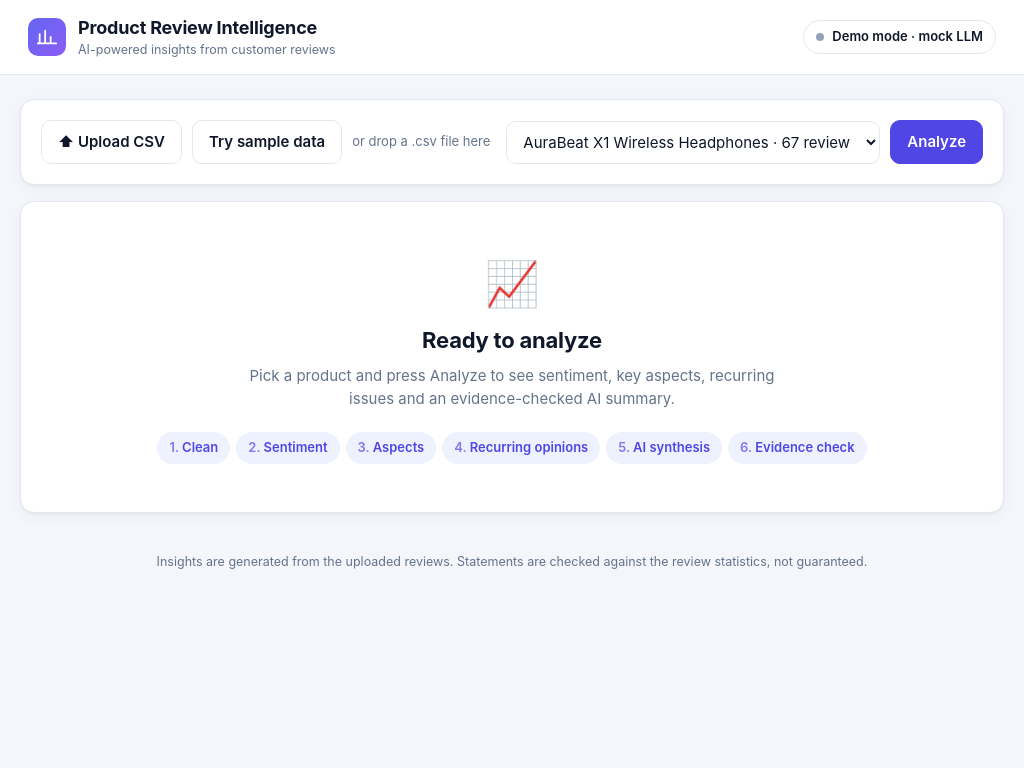
Test: App error handling › explains a missing LLM API key with how to fix it
What coordinates should you click on to do the following:
click the button "Analyze"
I would click on:
 (937, 142)
Its box is [890,120,983,164].
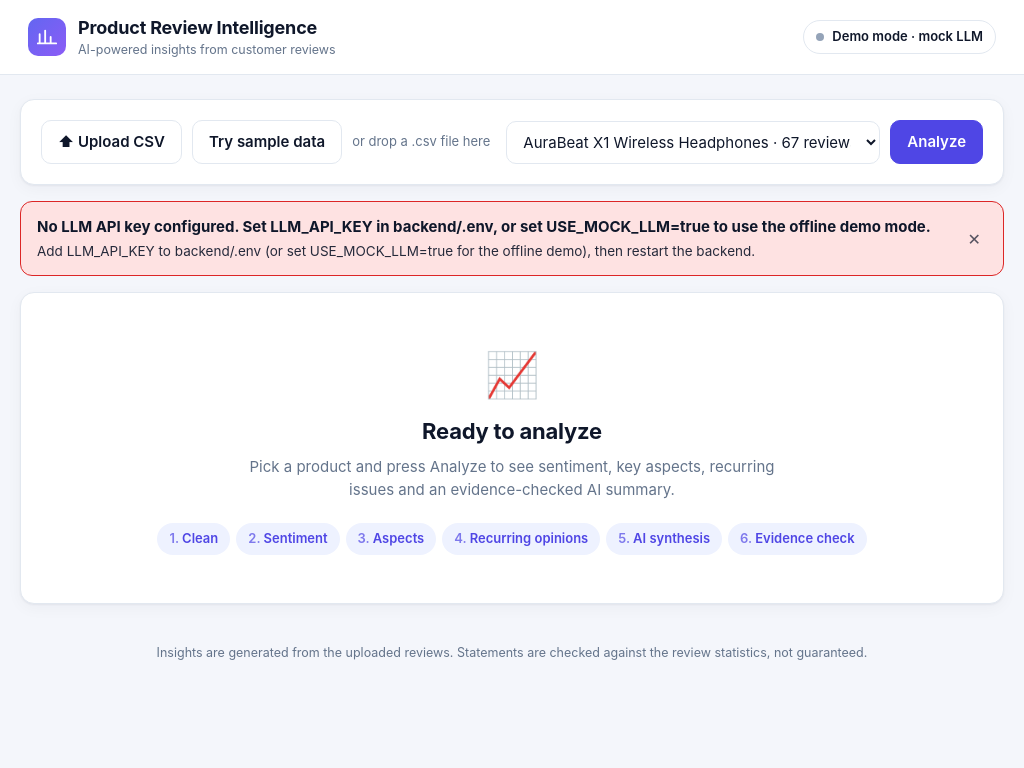
Check: the message shows "No LLM API key configured", box [37,217,931,236]
Check: the message shows "USE_MOCK_LLM=true", box [37,217,931,236]
